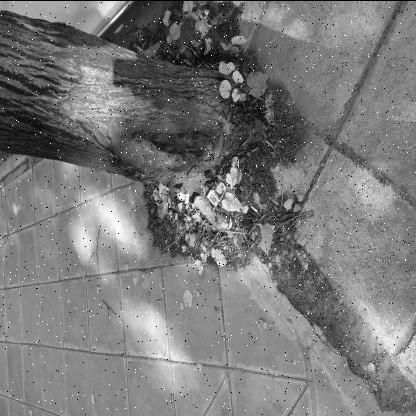cardboard: (206, 174, 228, 206)
